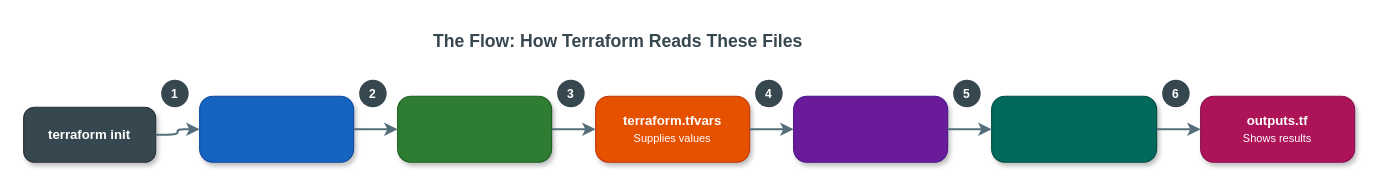
Image size: 1381x189. Some labels were removed from this diagram. The shapes that lost their labels are listed below. From the top down, each one's centre as x and y in pixels, then its label:
At pixel 277 130: "versions.tf Downloads providers".
At pixel 475 130: "variables.tf Declares inputs".
At pixel 871 130: "main.tf Calls modules".
At pixel 1074 130: "modules/*/main.tf Deploys resources".
